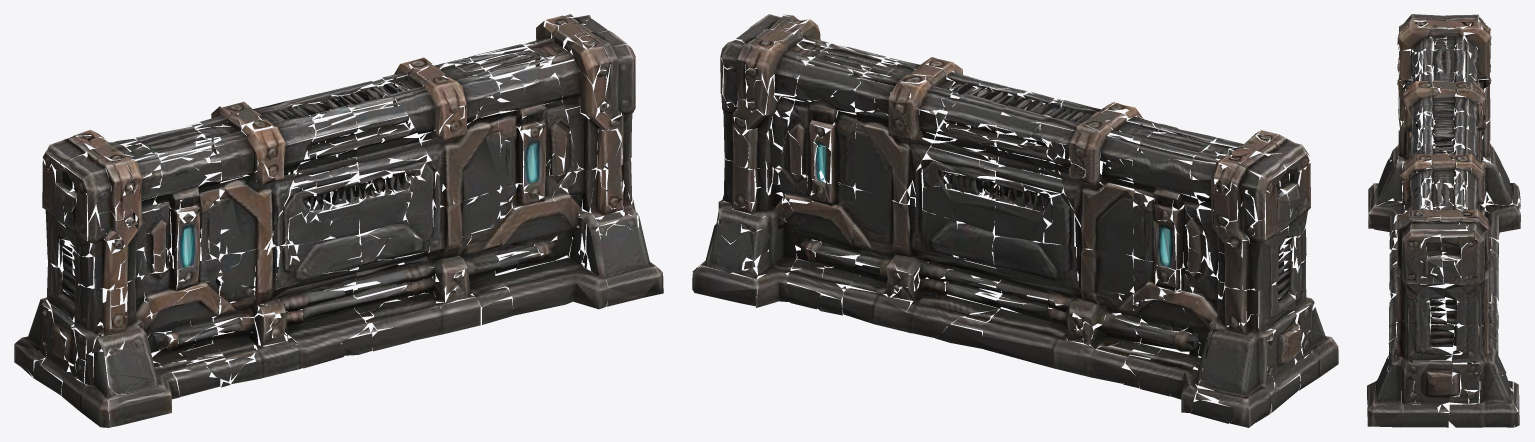
File: wall-1.glb
3 renders of one model, left to right at view 1: azimuth 30°, elevation 25°; view 2: azimuth 150°, elevation 25°; view 3: azimuth 270°, elevation 25°, orthographic. The views are drawn at different scales.
Parts seen in each view (by area): view 1: wall-1-body; view 2: wall-1-body; view 3: wall-1-body.
Part boxes in pixels (box(x1,y1,x2,y2)): wall-1-body: box(14, 14, 663, 427); wall-1-body: box(692, 14, 1338, 427); wall-1-body: box(1367, 14, 1520, 427).
Bounding box in the file's own units: 0.999 × 0.4044 × 0.2863.
Materials: 1 (1 with a texture image).
